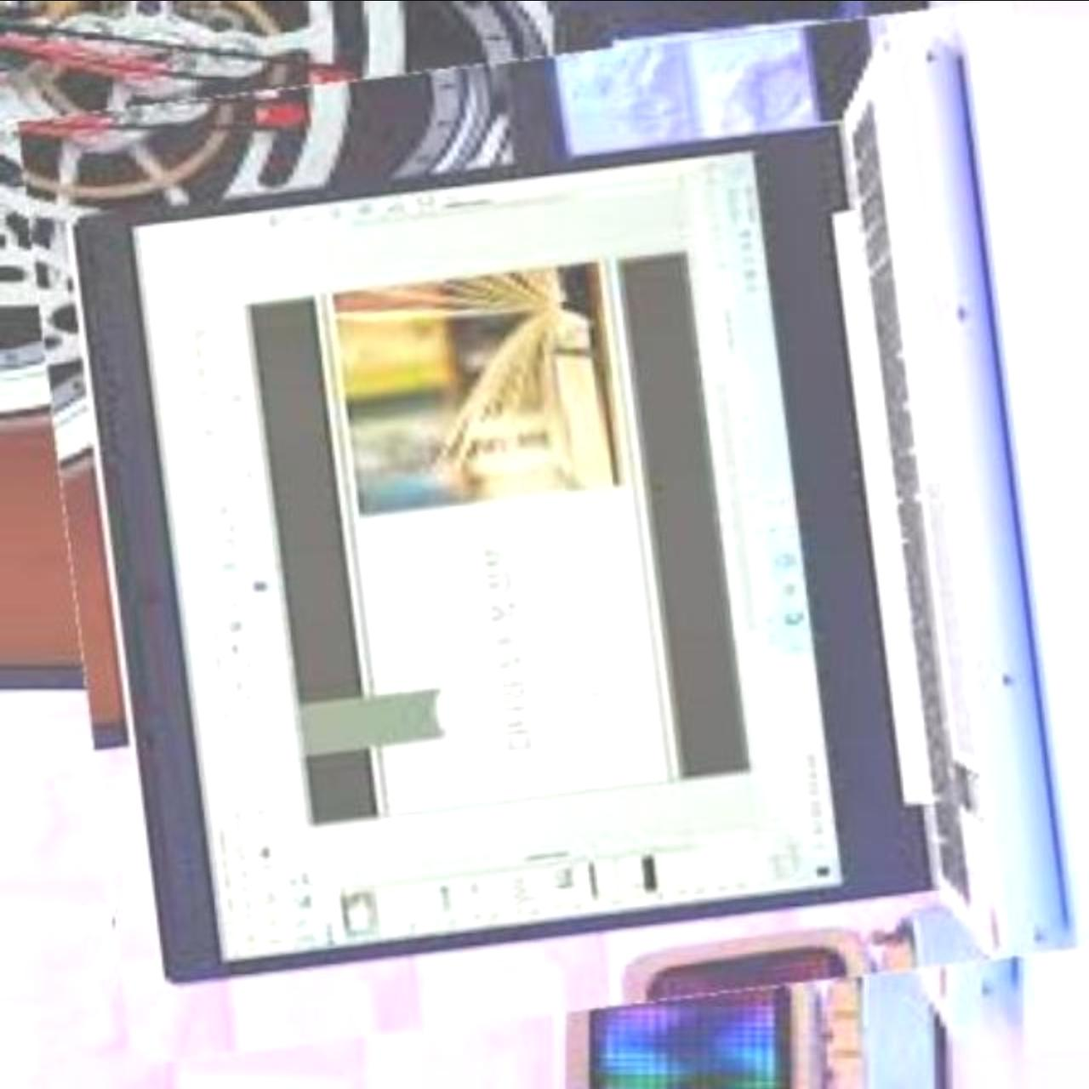laptop: (45, 29, 1088, 1033)
